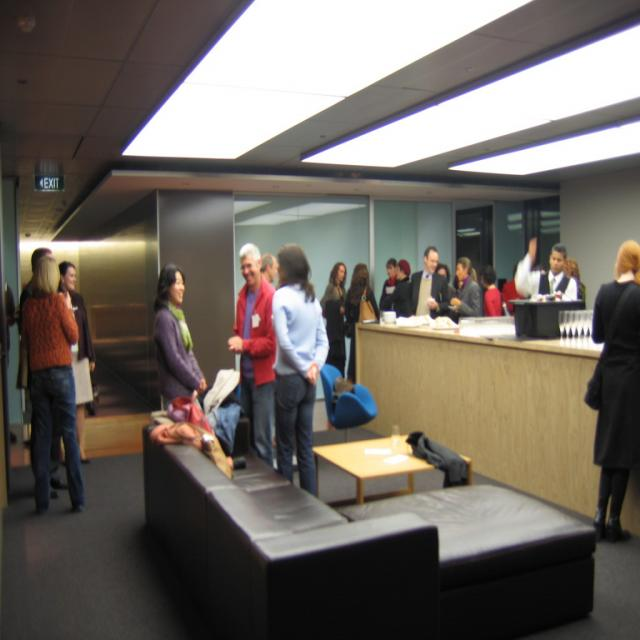chair: (320, 365, 378, 442)
desk: (355, 316, 640, 537)
person: (17, 249, 87, 516), (583, 239, 640, 543), (271, 245, 329, 497), (228, 247, 278, 468), (152, 262, 209, 412), (58, 260, 97, 464), (342, 262, 381, 381), (320, 262, 348, 378), (405, 245, 448, 318), (538, 244, 580, 302), (446, 258, 482, 319), (479, 264, 503, 318)
